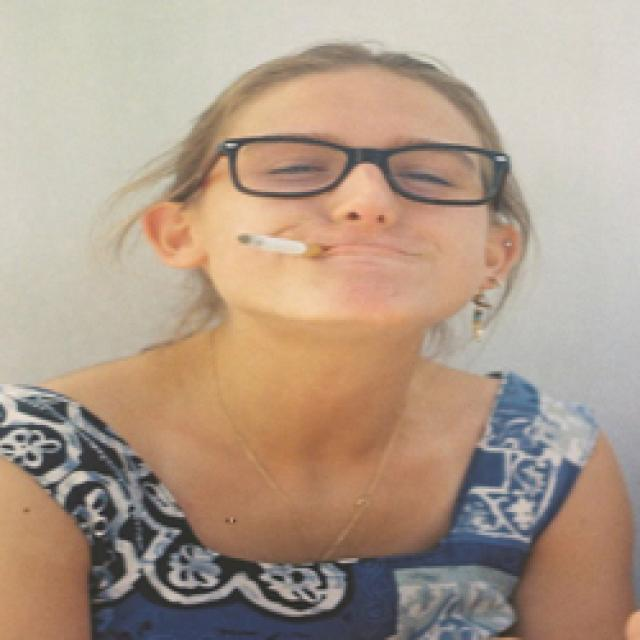Smooking: (232, 225, 334, 275)
